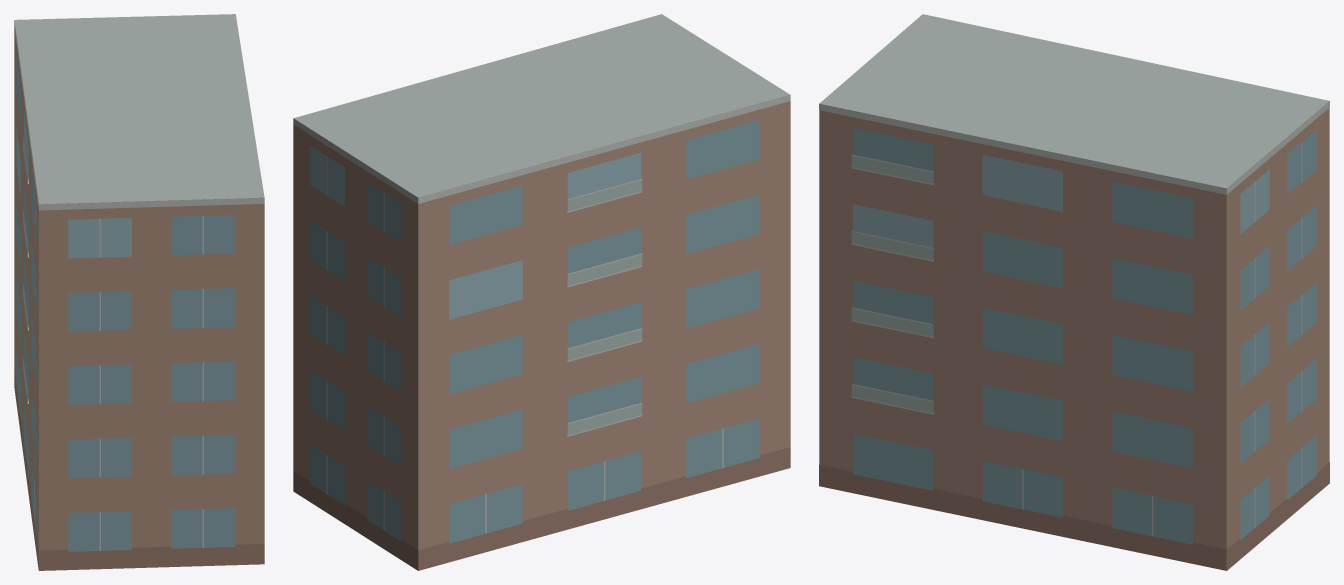
File: survey-upis-32891275.glb
3 renders of one model, left to right at view 1: azimuth 30°, elevation 25°; view 2: azimuth 150°, elevation 25°; view 3: azimuth 270°, elevation 25°, orthographic. The views are drawn at different scales.
Parts seen in each view (by area): view 1: survey-upis-32891275.tmp; view 2: survey-upis-32891275.tmp; view 3: survey-upis-32891275.tmp.
Boxes of the visible parts, x1,y1,x2,y2 form: survey-upis-32891275.tmp: (14, 14, 264, 570); survey-upis-32891275.tmp: (293, 14, 790, 570); survey-upis-32891275.tmp: (819, 14, 1329, 570).
Bounding box in the file's own units: 14.14 × 14.45 × 17.49.
